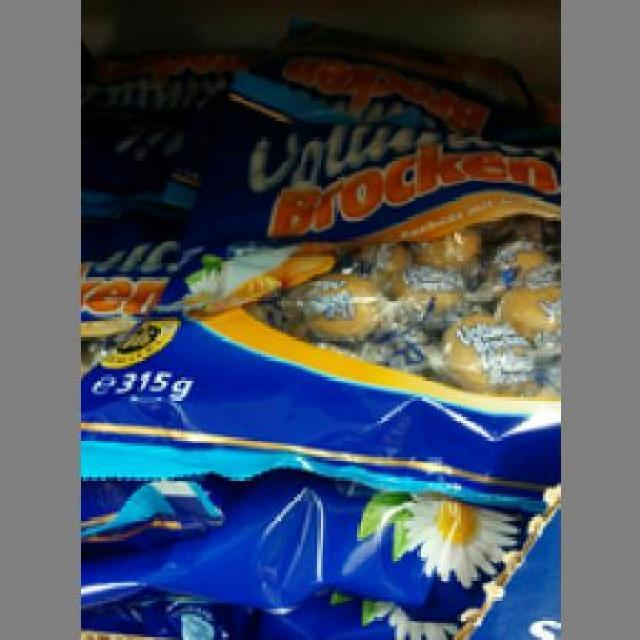Candy: (82, 100, 552, 486)
